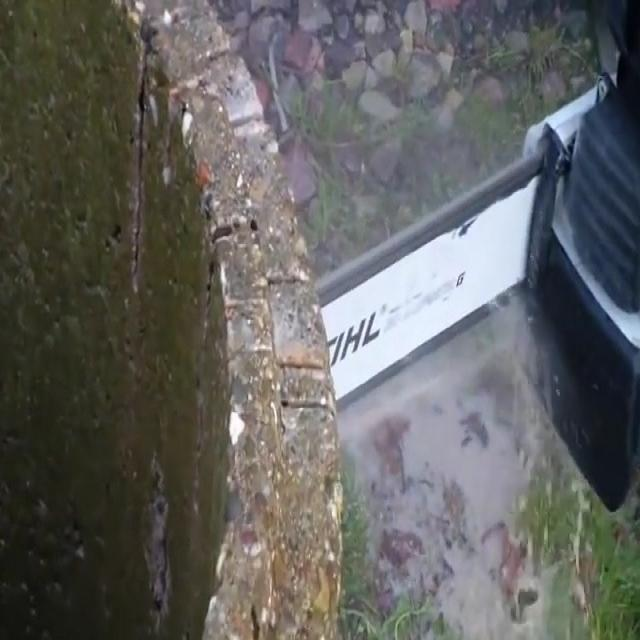Chainsaw: (265, 29, 640, 539)
